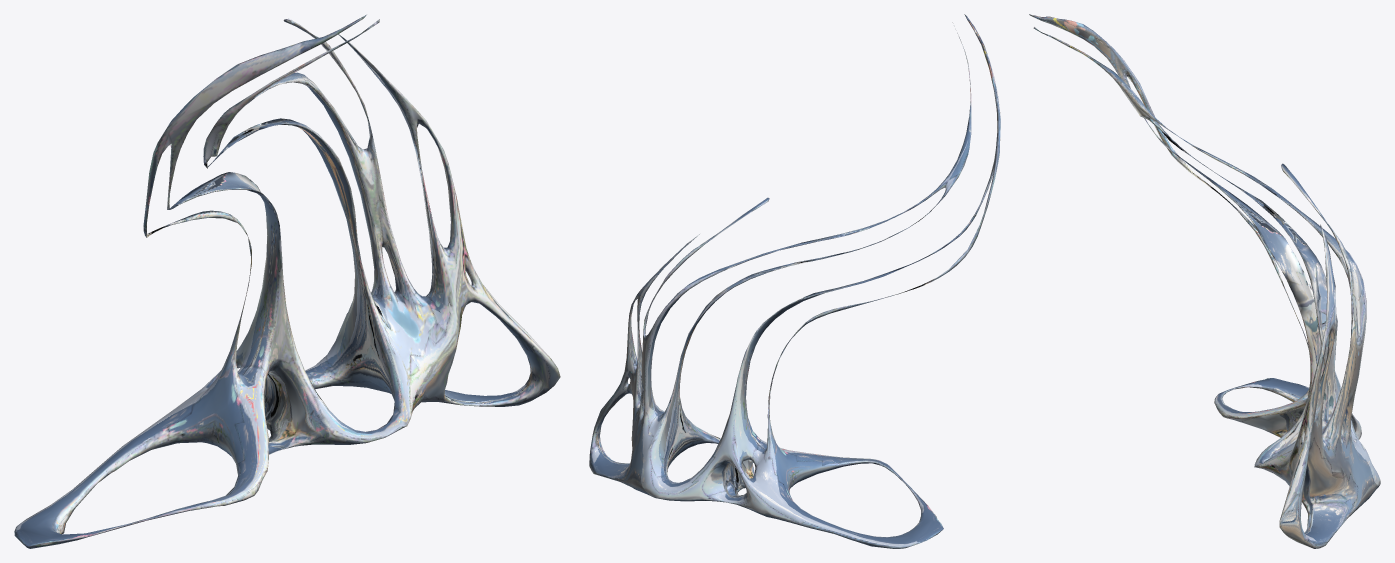
The model's file is 前景v2.fbx.
3 views of the same model, side by side, from view 1: azimuth 30°, elevation 25°; view 2: azimuth 150°, elevation 25°; view 3: azimuth 270°, elevation 25° (orthographic). The views are drawn at different scales.
Parts seen in each view (by area): view 1: Mesh_1.005; view 2: Mesh_1.005; view 3: Mesh_1.005.
Part boxes in pixels (<box>): Mesh_1.005: <box>14,14,560,548</box>; Mesh_1.005: <box>589,14,1000,548</box>; Mesh_1.005: <box>1029,14,1380,548</box>.
Bounding box in the file's own units: 141 × 163 × 122.
1 material, 1 textured.
